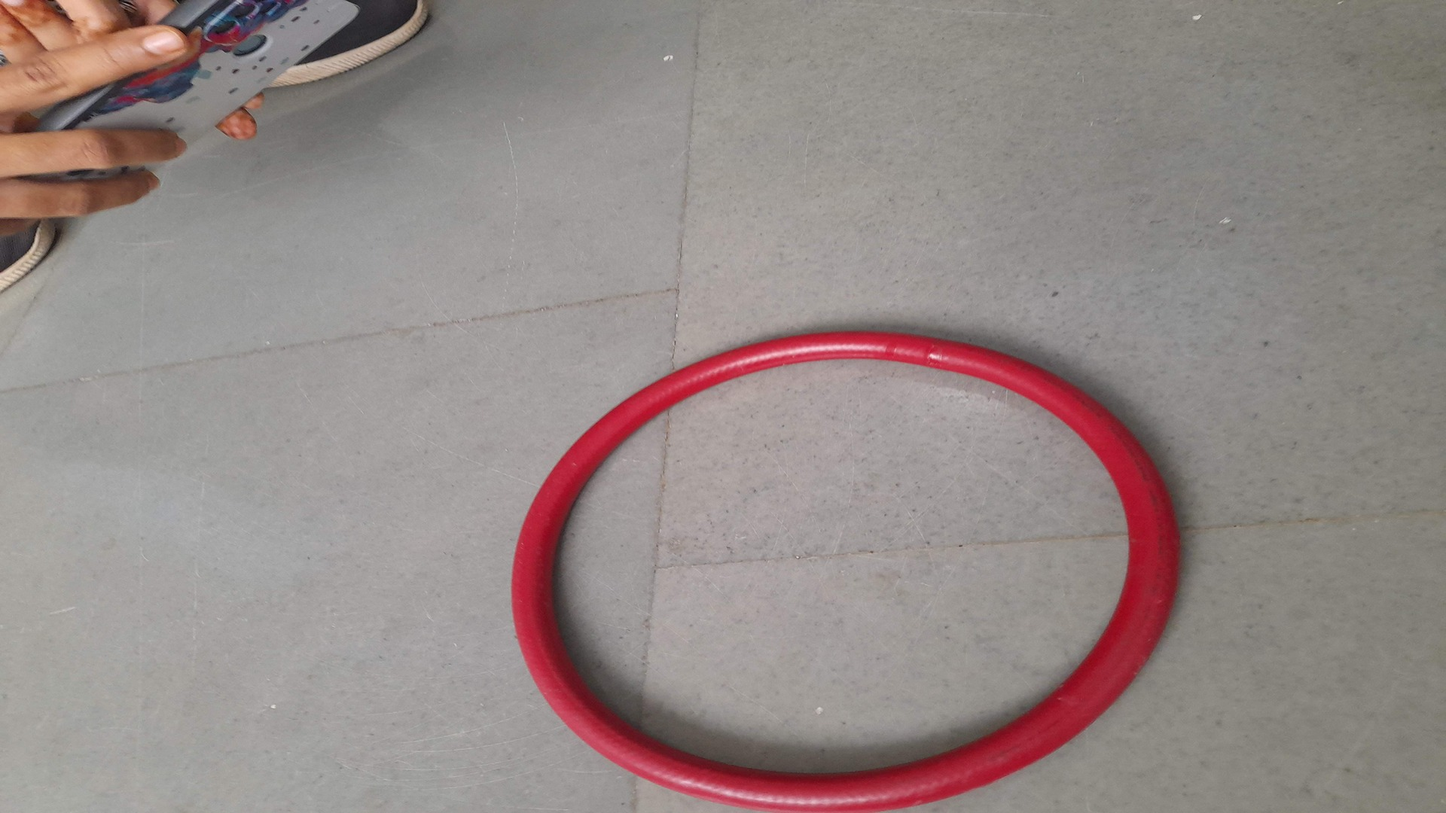Red ring: (510, 330, 1179, 799)
